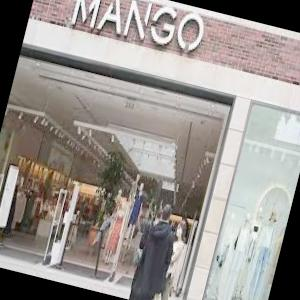mango: (65, 0, 212, 59)
